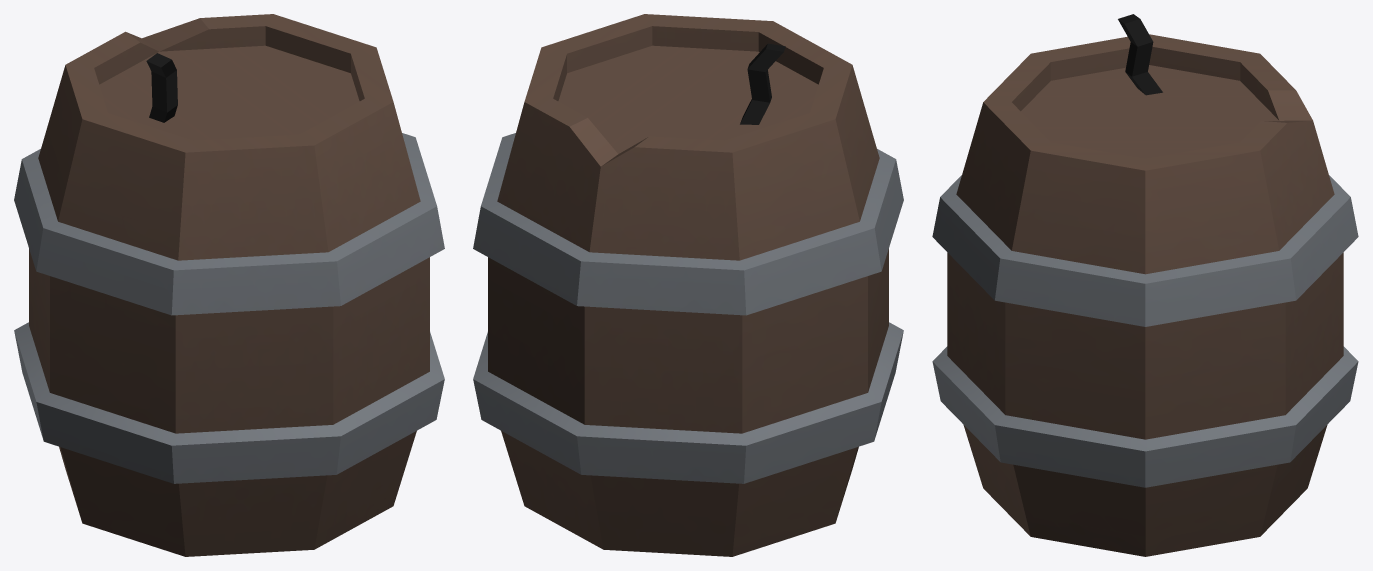
The model's file is barrel_gunpowder.fbx.
The picture shows the model from 3 angles, left to right: view 1: azimuth 30°, elevation 25°; view 2: azimuth 150°, elevation 25°; view 3: azimuth 270°, elevation 25°; orthographic projection. The views are drawn at different scales.
Parts seen in each view (by area): view 1: barrel_Gunpowder; view 2: barrel_Gunpowder; view 3: barrel_Gunpowder.
Part boxes in pixels (bbox=[...]): barrel_Gunpowder: bbox=[14, 14, 444, 556]; barrel_Gunpowder: bbox=[473, 14, 903, 556]; barrel_Gunpowder: bbox=[932, 14, 1358, 556].
Bounding box in the file's own units: 1 × 1.13 × 1.
1 material, 1 textured.
